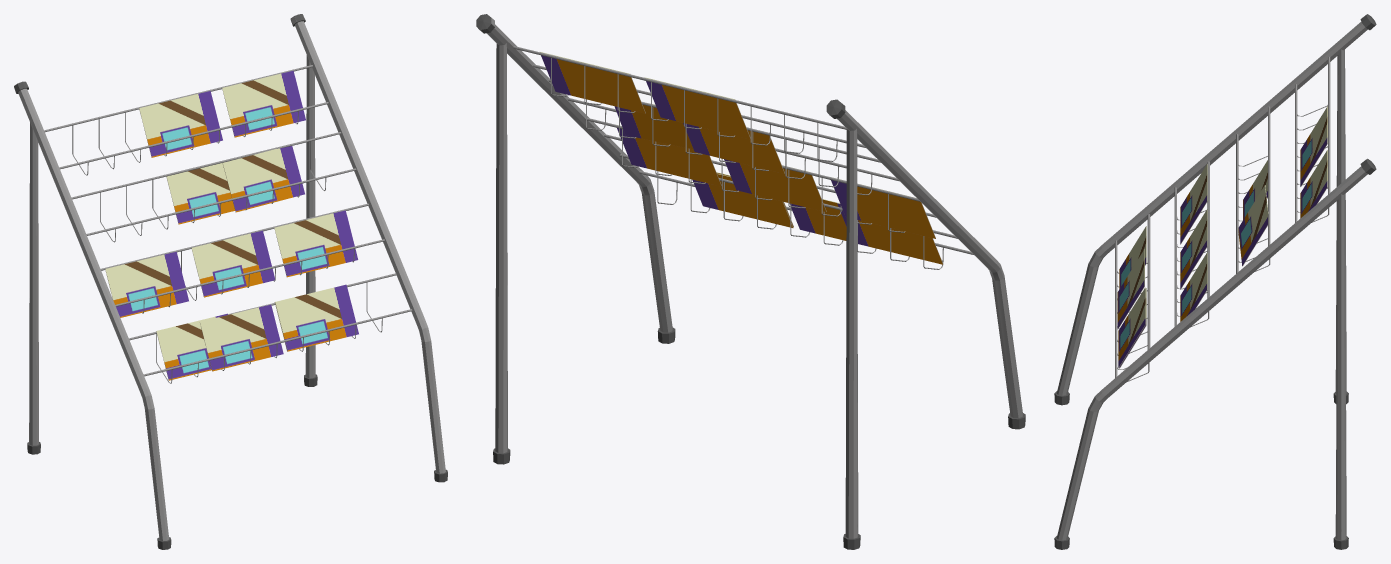
File: Estande Revistas.fbx
The picture shows the model from 3 angles, left to right: view 1: azimuth 30°, elevation 25°; view 2: azimuth 150°, elevation 25°; view 3: azimuth 270°, elevation 25°; orthographic projection. The views are drawn at different scales.
Visible parts, largest first — view 1: Estande1; view 2: Estande1; view 3: Estande1.
Part boxes in pixels (<box>): Estande1: <box>14,14,447,549</box>; Estande1: <box>476,14,1025,549</box>; Estande1: <box>1054,14,1376,549</box>.
Size of the model in its own units: 5.51 by 6.6 by 4.96.
2 materials, 2 textured.
